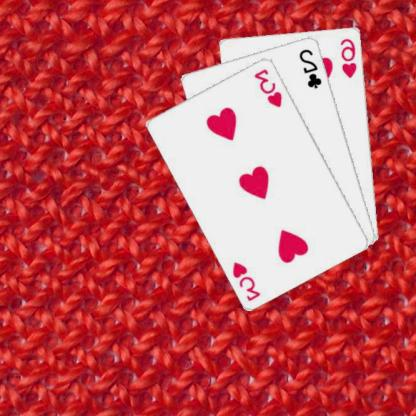2C: (298, 46, 324, 89)
3H: (232, 259, 264, 302), (253, 66, 285, 108)
6H: (340, 35, 360, 79)
